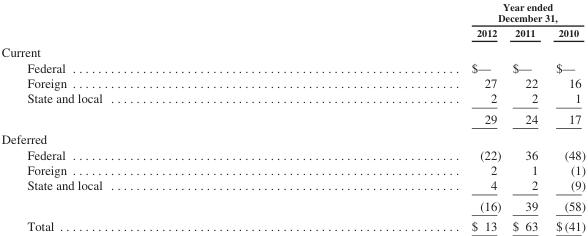table: (0, 0, 584, 232)
table column: (0, 0, 286, 232), (286, 0, 506, 232), (506, 0, 546, 232), (546, 0, 584, 232)
table column header: (0, 0, 584, 41)
table projected row header: (0, 41, 584, 59), (0, 128, 584, 146)
table row: (0, 0, 584, 24), (0, 108, 584, 128), (0, 195, 584, 215), (0, 41, 584, 59), (0, 90, 584, 108), (0, 128, 584, 146), (0, 177, 584, 195), (0, 24, 584, 41), (0, 215, 584, 232), (0, 59, 584, 75), (0, 161, 584, 177), (0, 75, 584, 90), (0, 146, 584, 161)
table spanning cell: (286, 0, 584, 24)
